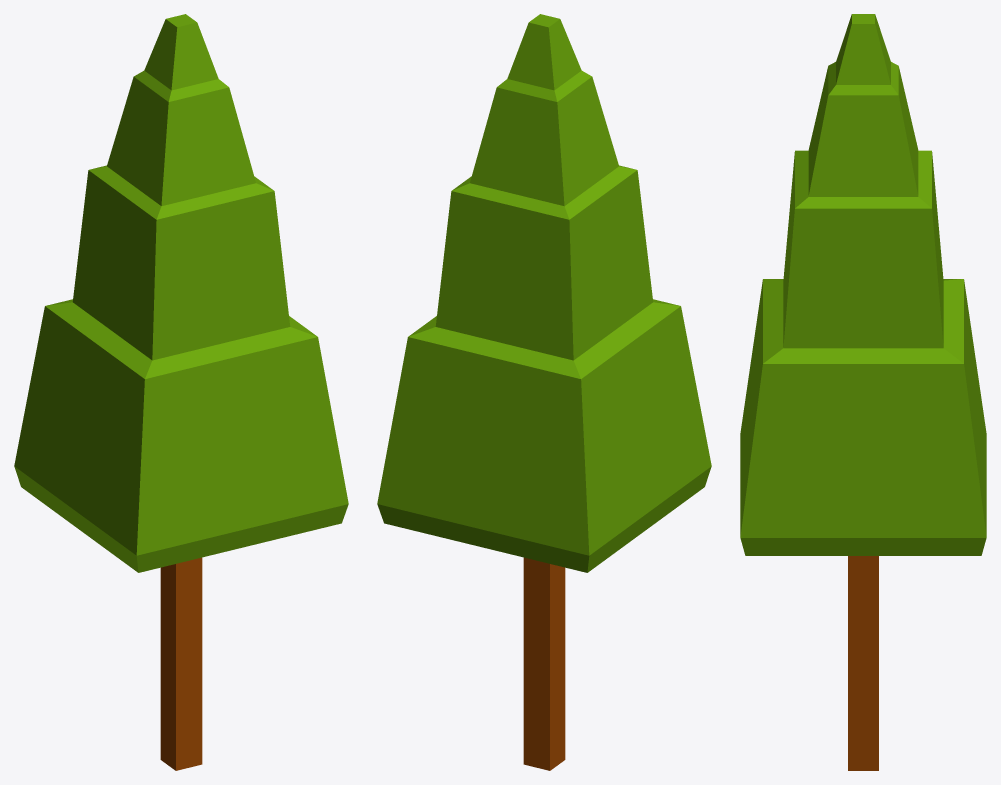
Rendered from Tree_32_Spring.fbx.
3 renders of one model, left to right at view 1: azimuth 30°, elevation 25°; view 2: azimuth 150°, elevation 25°; view 3: azimuth 270°, elevation 25°, orthographic.
Visible parts, largest first — view 1: Tree_32_Spring; view 2: Tree_32_Spring; view 3: Tree_32_Spring.
Boxes of the visible parts, x1,y1,x2,y2 form: Tree_32_Spring: (14,14,348,770); Tree_32_Spring: (377,14,711,770); Tree_32_Spring: (740,14,986,770).
Bounding box in the file's own units: 113 × 378 × 113.
